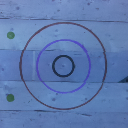Axe Tip: (119, 79, 128, 81)
